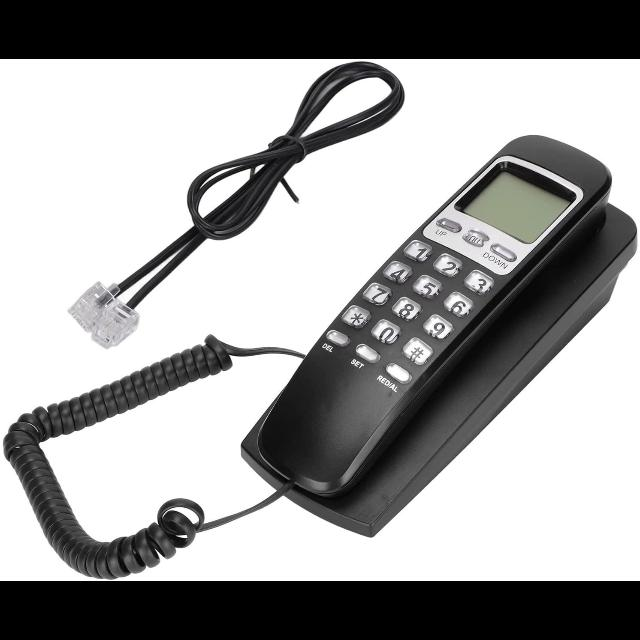Telephone-Set: (132, 94, 640, 552)
